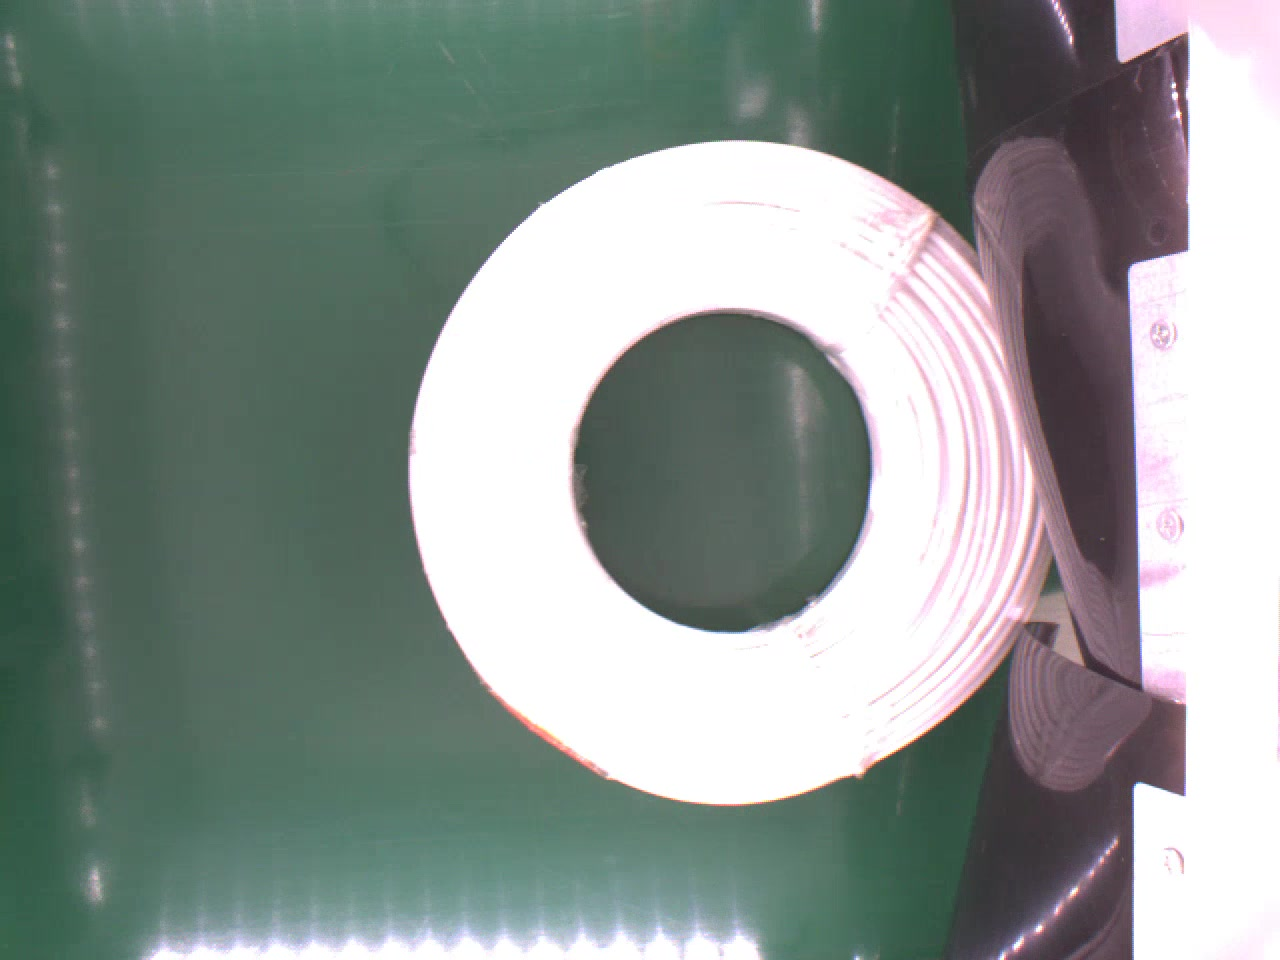white: (401, 136, 1056, 817)
